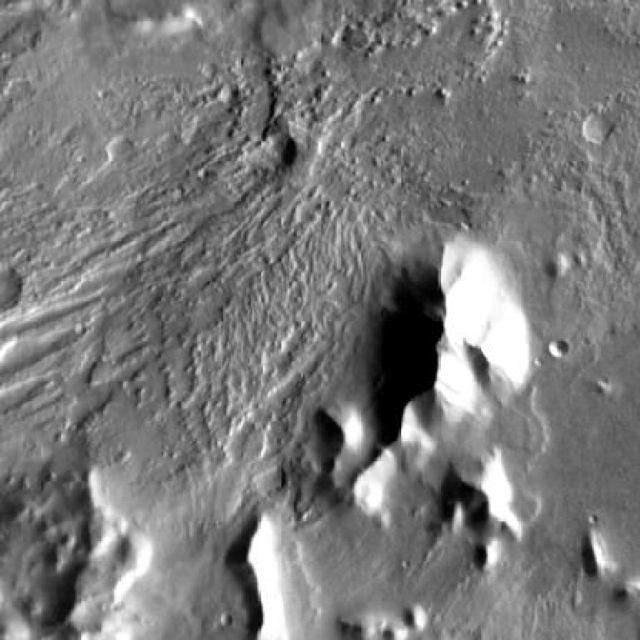crater: (583, 112, 612, 142), (549, 338, 569, 358)
